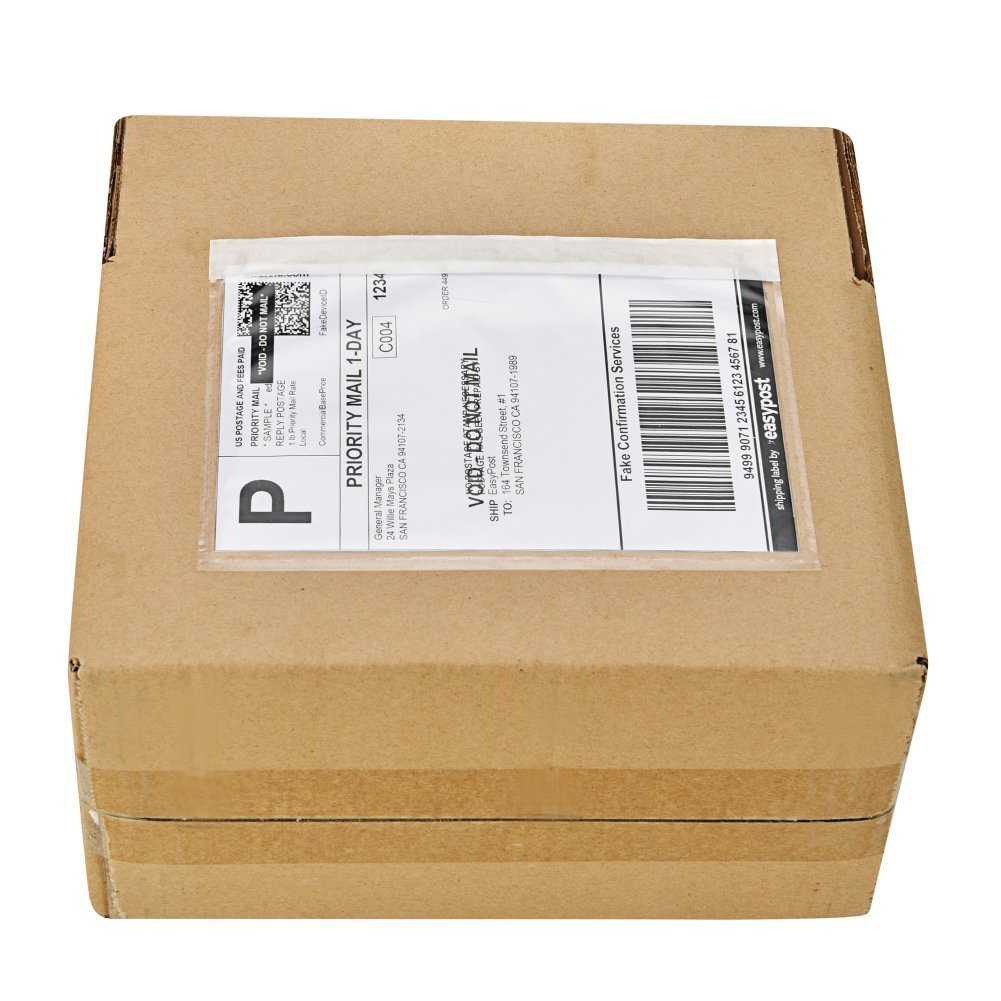Parcel: (64, 115, 928, 670), (68, 669, 929, 921)
